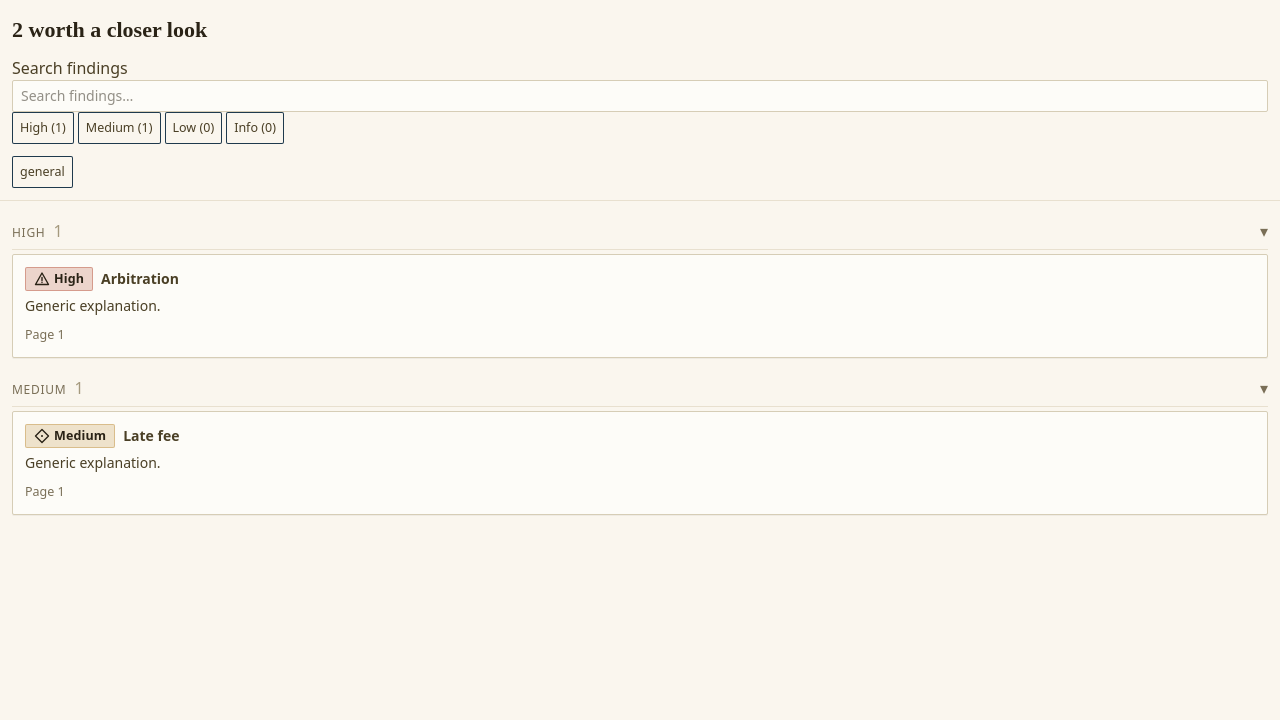
Test case: FindingsPanel › hides findings when their severity chip is toggled off
Click the button with aria-label "severity high" at (43, 128), box [12,112,74,144]
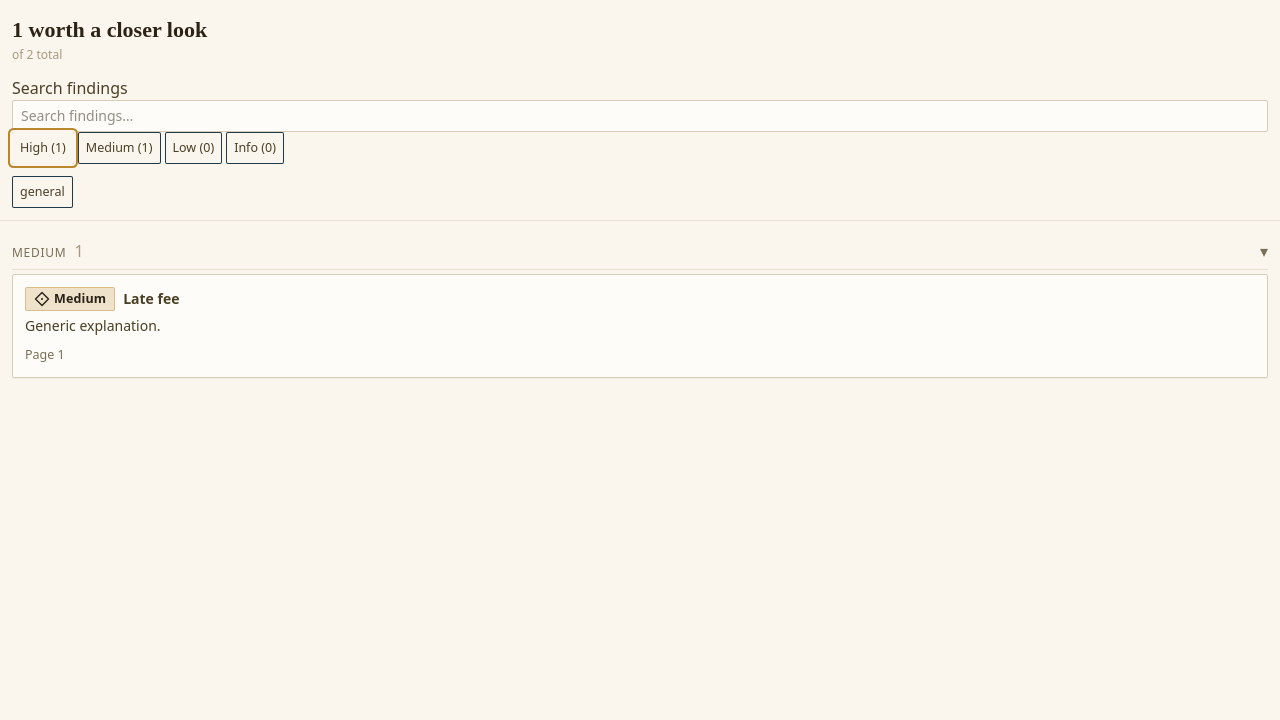
Expected: the text "Late fee" is shown, [123,288,179,310]
Expected: the button "Arbitration" is gone
